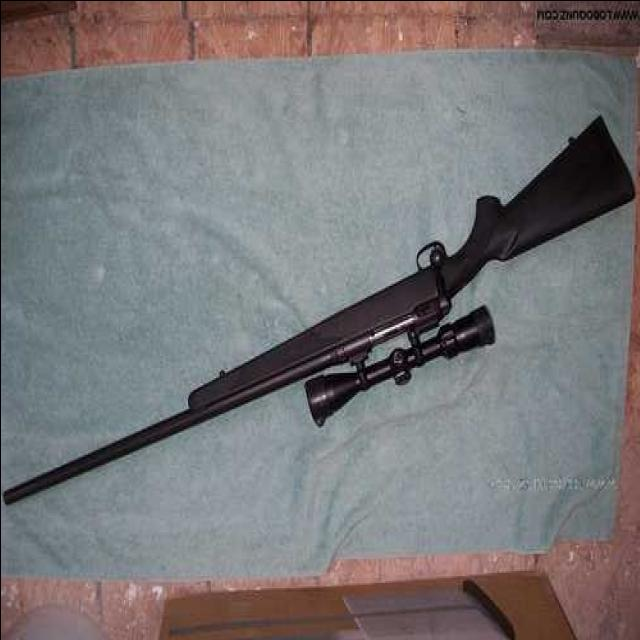heavyweapon: (1, 100, 640, 537)
